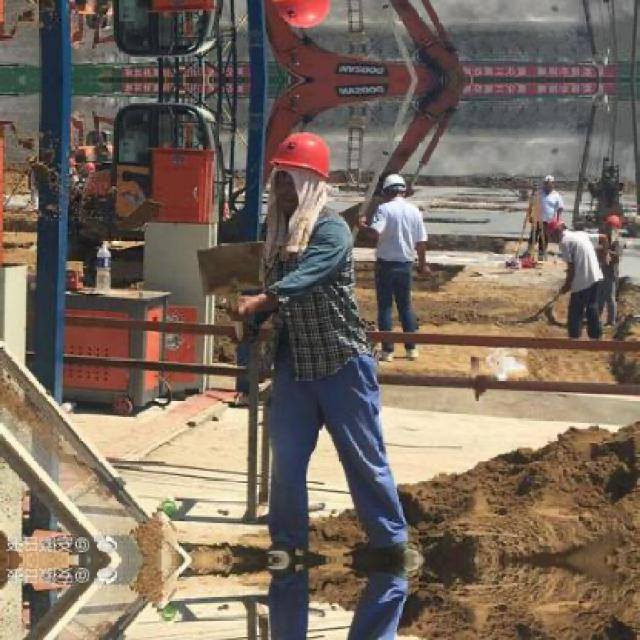helmet: (272, 130, 332, 212), (273, 0, 334, 32), (380, 172, 406, 202), (545, 217, 569, 243), (600, 216, 622, 242), (543, 172, 555, 197)
